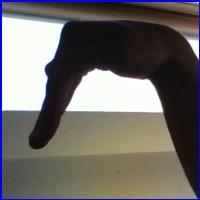A: (18, 16, 182, 174)
